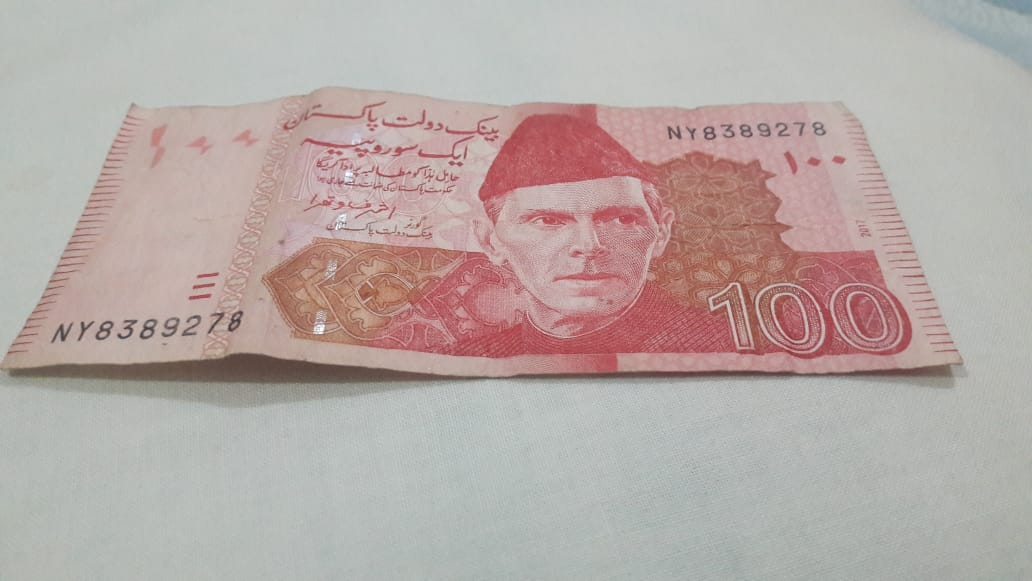100 rupee: (20, 64, 973, 421)
